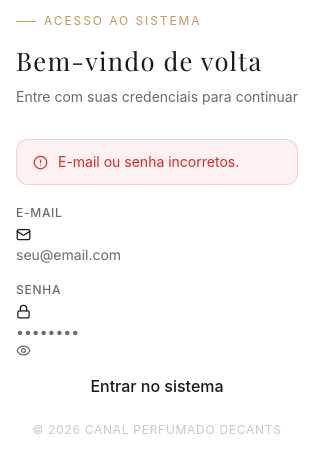
Test: LoginFormPanel › renders the login form and toggles password visibility
Expected: the heading "Bem-vindo de volta" is shown, [16,41,298,79]
Expected: the message reads "E-mail ou senha incorretos.", [58,153,239,170]
Click the button named "Mostrar senha" at [24, 351], box [16,343,31,358]
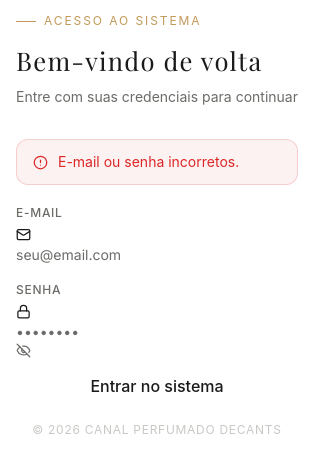
Expected: the button named "Ocultar senha" is shown, [16,343,31,358]
